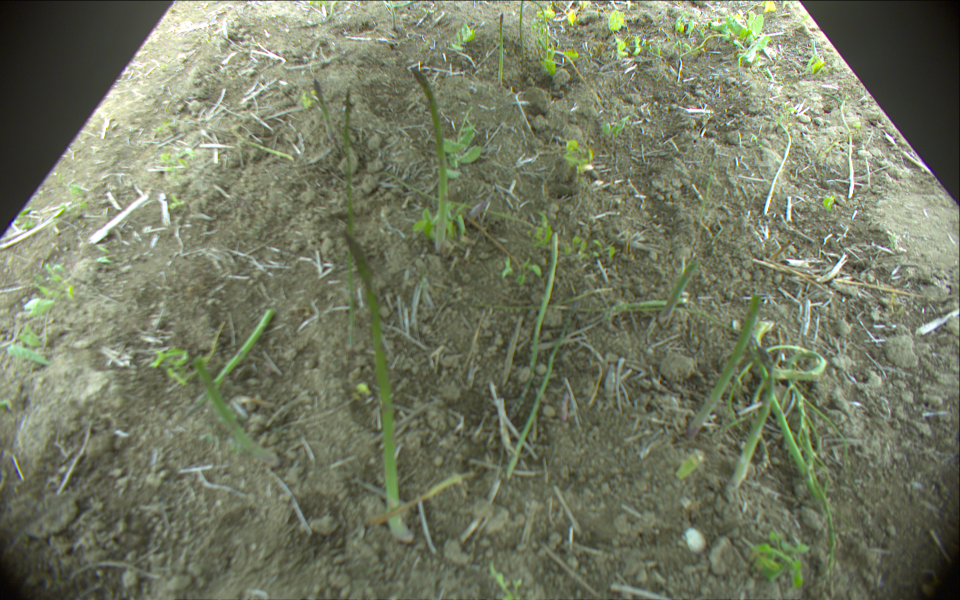aspa: (342, 231, 411, 550), (744, 320, 821, 514), (677, 291, 764, 438), (187, 351, 276, 470), (505, 340, 561, 480), (518, 231, 560, 404), (413, 63, 450, 257), (728, 369, 773, 493), (213, 306, 275, 387), (652, 255, 708, 328), (313, 76, 347, 167), (344, 85, 358, 237), (493, 5, 506, 86), (514, 1, 528, 64)
